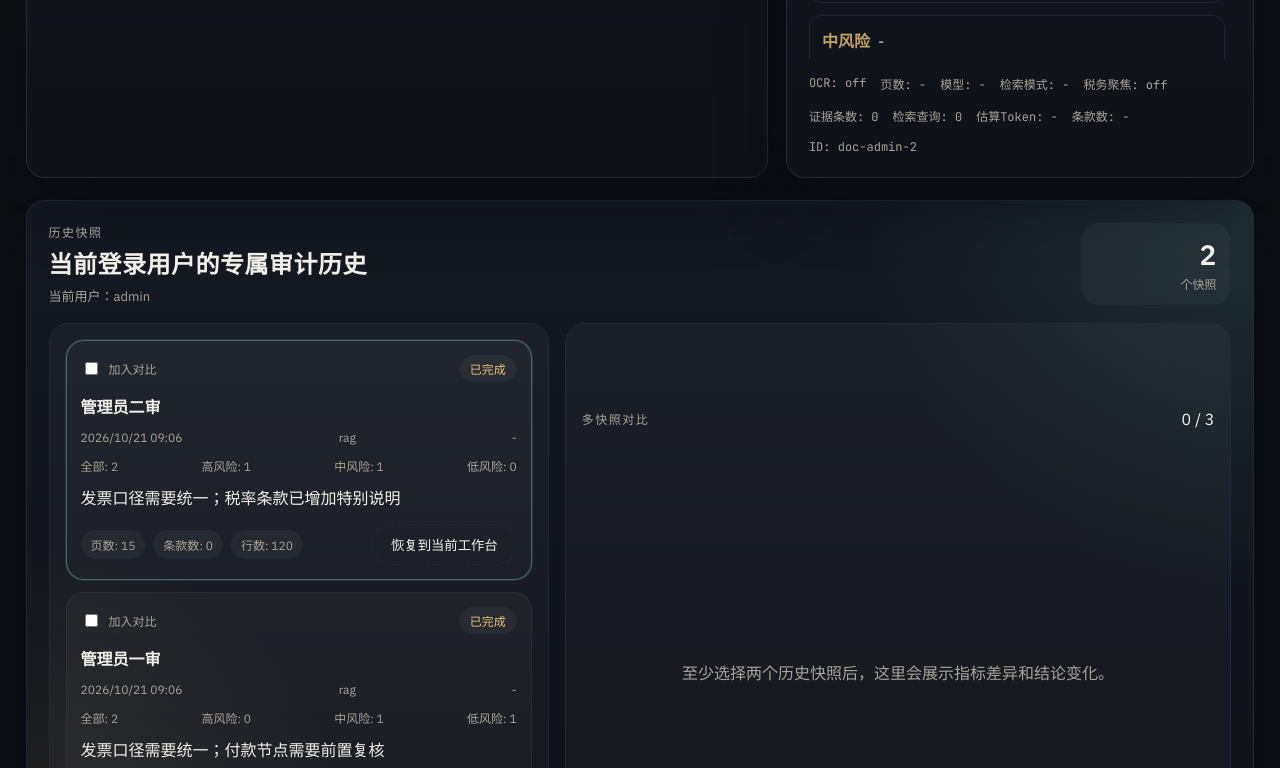
App audit persistence › shows only the current user's snapshot history and supports compare
(page scrolled)
Expected: the text "管理员一审" is shown, left=81, top=649, right=161, bottom=669
Expected: the text "管理员二审" is shown, left=81, top=397, right=161, bottom=417
Step 1. Click the 1st checkbox labelled "加入对比" → (91, 368), box left=85, top=362, right=98, bottom=375
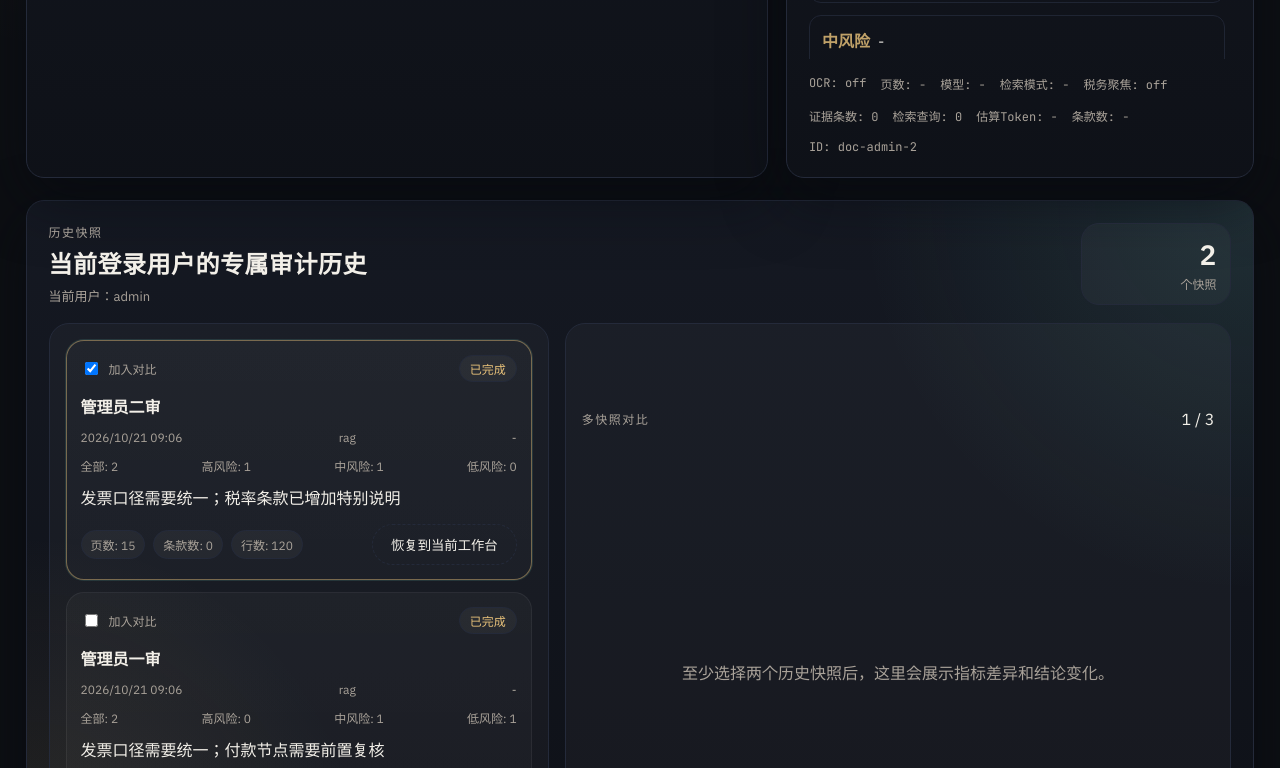
Step 2. Click the 2nd checkbox labelled "加入对比" → (91, 620), box left=85, top=614, right=98, bottom=627
(page scrolled)
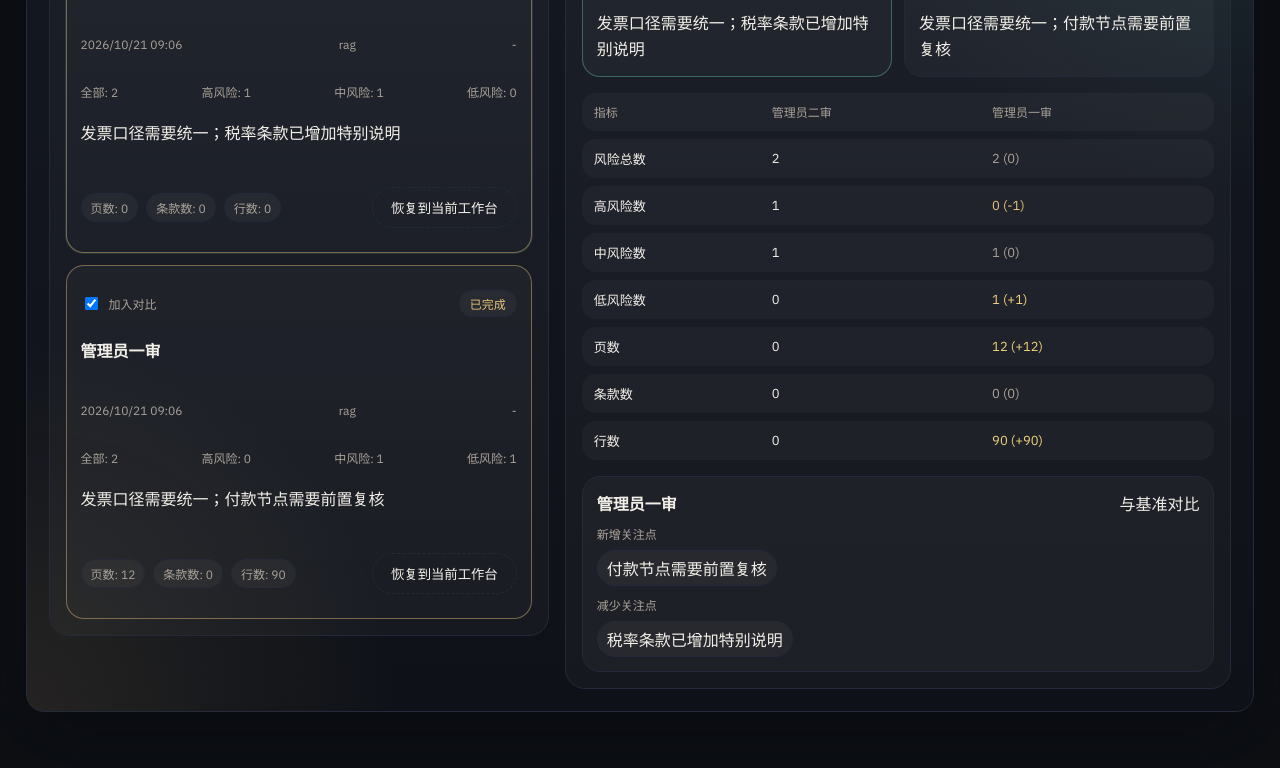
Expected: the text "风险总数" is shown, left=594, top=151, right=646, bottom=168
Expected: the text "新增关注点" is shown, left=597, top=527, right=657, bottom=542
